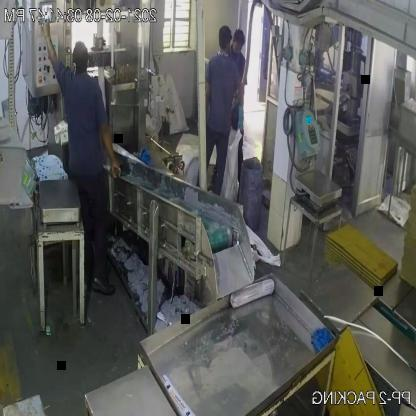no_glove: (99, 113, 121, 185), (38, 13, 60, 77)
